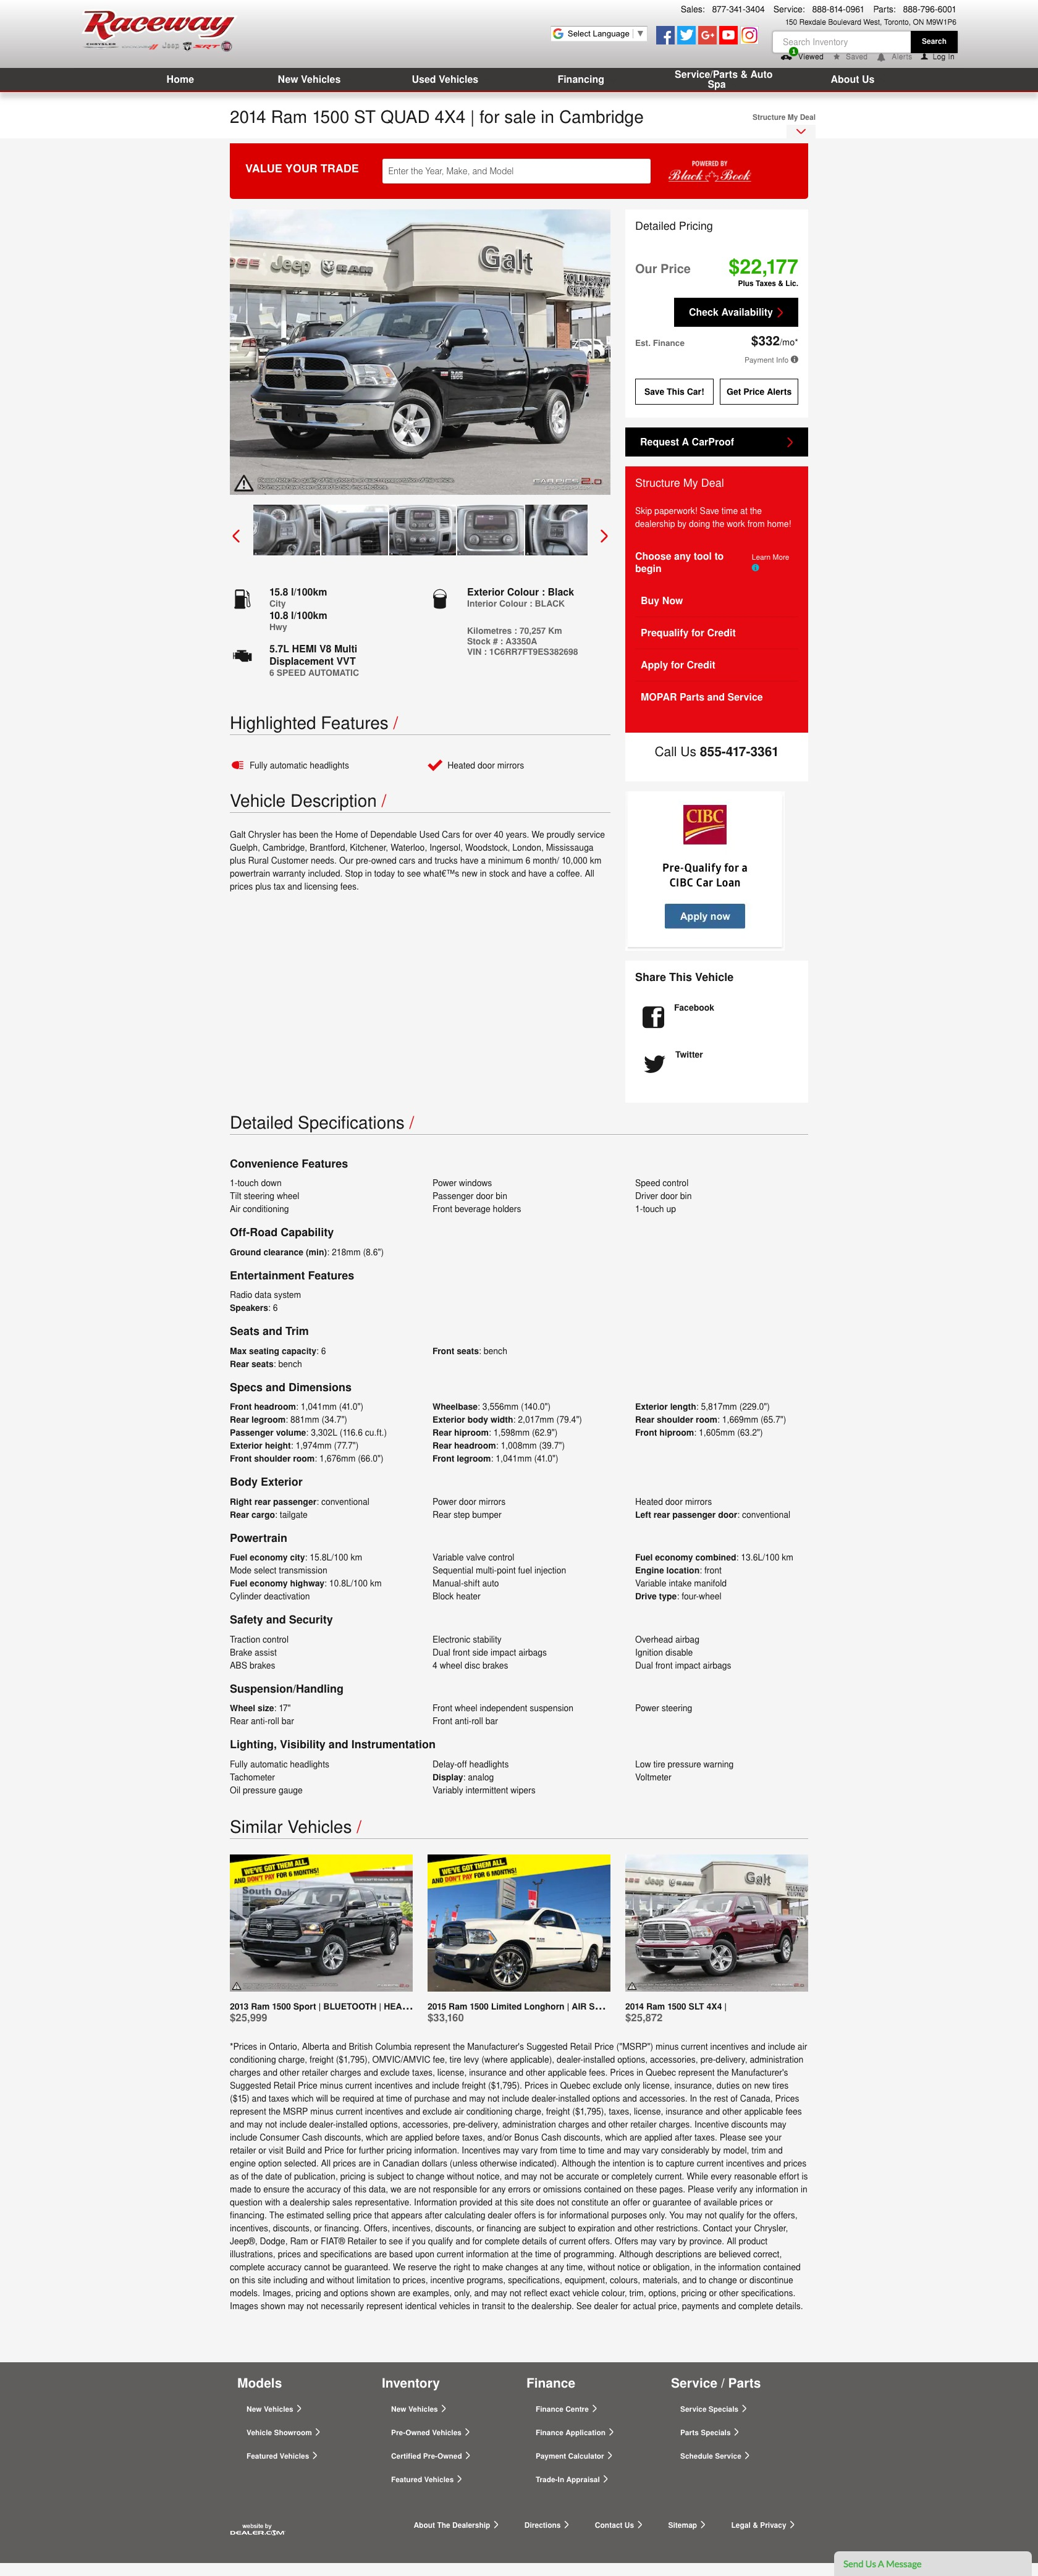car: (599, 529, 609, 544)
